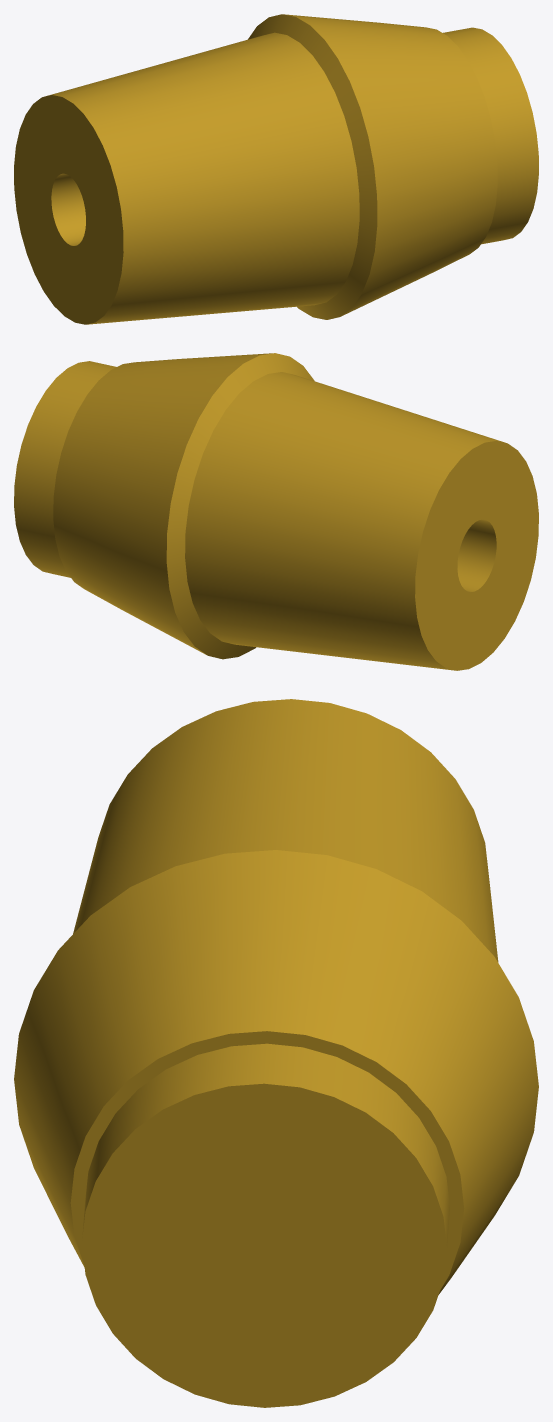
File: AbutmentIncisor.fbx
3 views of the same model, one above another, from view 1: azimuth 30°, elevation 25°; view 2: azimuth 150°, elevation 25°; view 3: azimuth 270°, elevation 25° (orthographic). The views are drawn at different scales.
Visible parts, largest first — view 1: ToolAbutmentIncisor; view 2: ToolAbutmentIncisor; view 3: ToolAbutmentIncisor.
Part boxes in pixels (x1,y1,x2,y2): ToolAbutmentIncisor: (14, 14, 538, 324); ToolAbutmentIncisor: (14, 353, 538, 670); ToolAbutmentIncisor: (14, 699, 538, 1407).
Bounding box in the file's own units: 0.2814 × 0.1788 × 0.1789.
